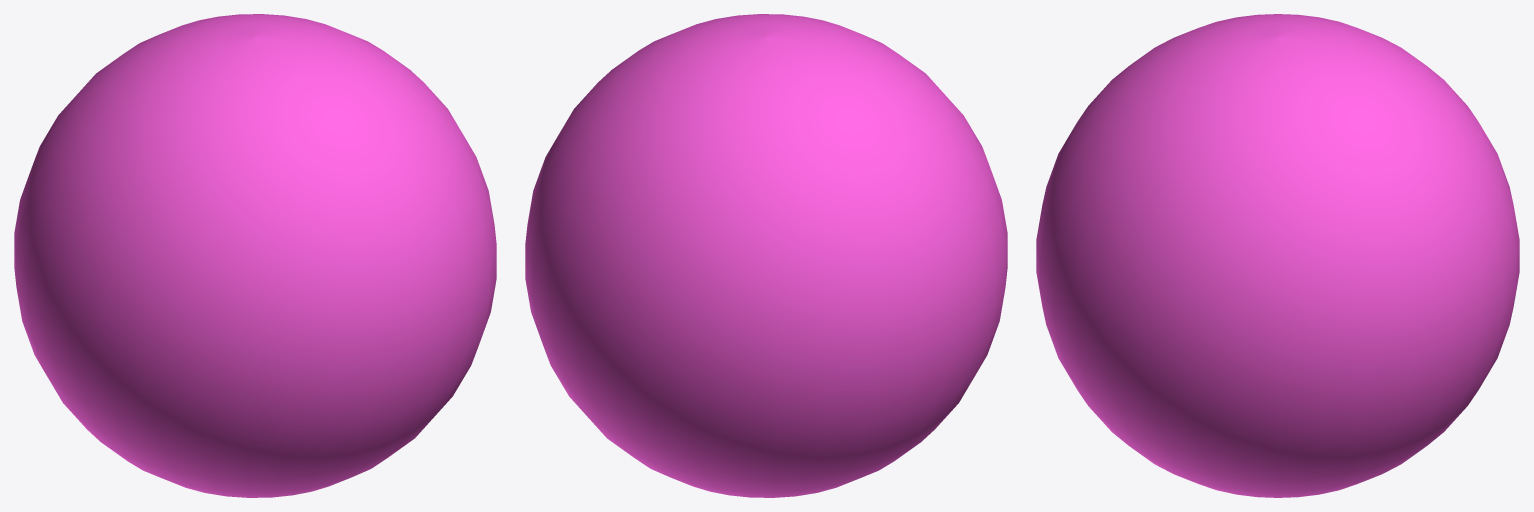
File: pink.glb
3 views of the same model, side by side, from view 1: azimuth 30°, elevation 25°; view 2: azimuth 150°, elevation 25°; view 3: azimuth 270°, elevation 25° (orthographic).
Visible parts, largest first — view 1: 曲面球; view 2: 曲面球; view 3: 曲面球.
Part boxes in pixels (x1,y1,x2,y2): 曲面球: (14,14,496,497); 曲面球: (525,14,1007,497); 曲面球: (1036,14,1519,497).
Size of the model in its own units: 1.99 by 2 by 1.99.
